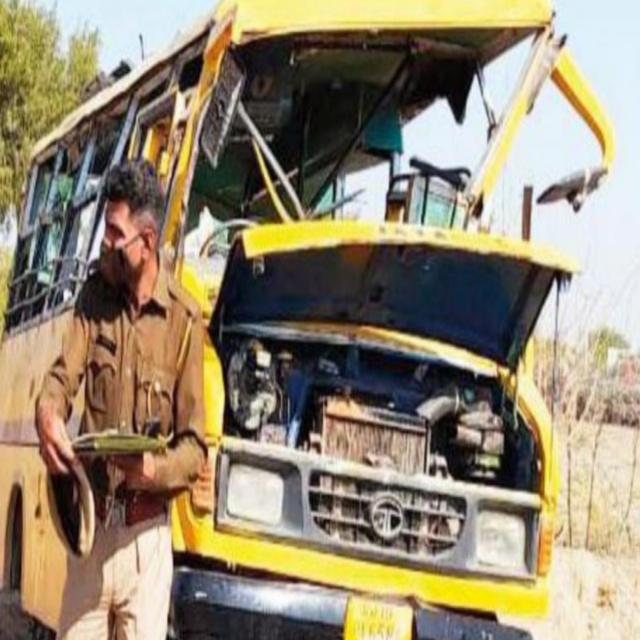accident: (0, 0, 614, 640)
